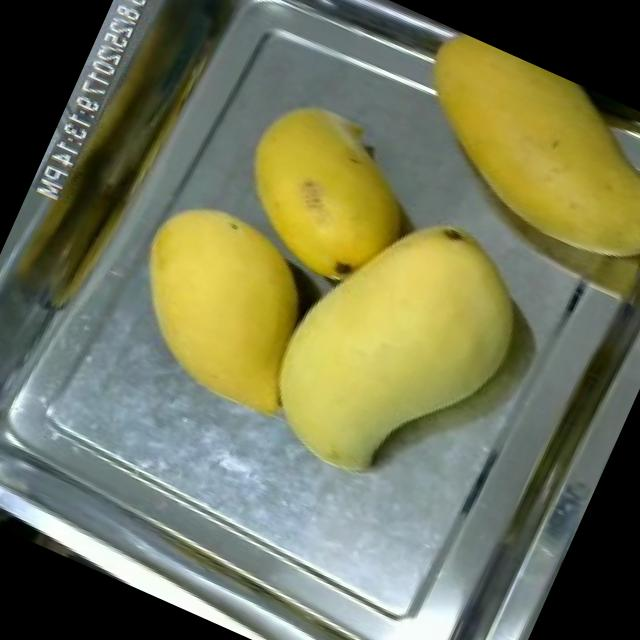fruit: (230, 167, 560, 531), (371, 22, 640, 306), (80, 162, 346, 436), (201, 75, 449, 316)
